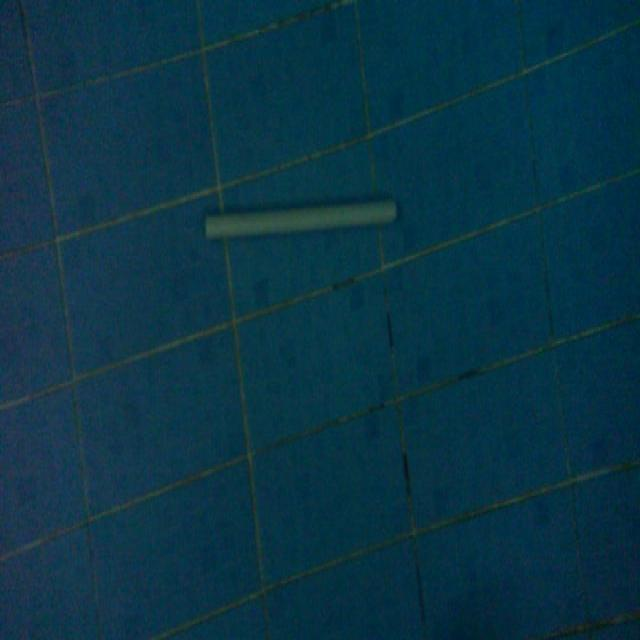Cube: (202, 192, 399, 244)
